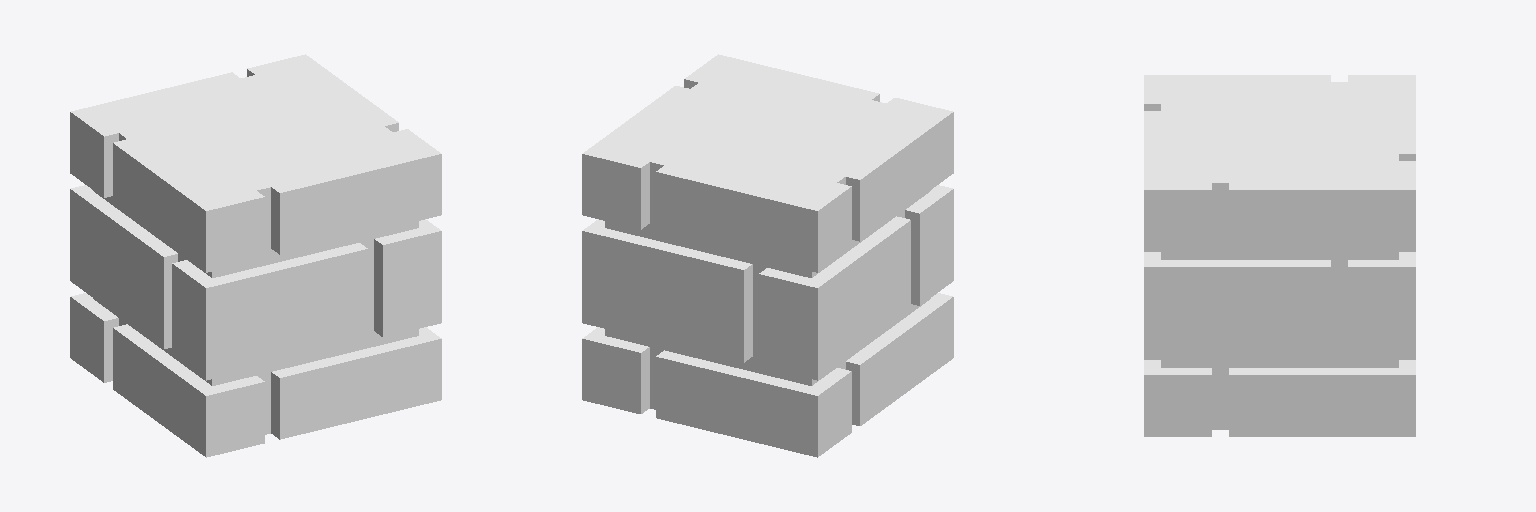
File: Stone_brick.obj
3 renders of one model, left to right at view 1: azimuth 30°, elevation 25°; view 2: azimuth 150°, elevation 25°; view 3: azimuth 270°, elevation 25°, orthographic.
Parts seen in each view (by area): view 1: object 1; view 2: object 1; view 3: object 1.
Boxes of the visible parts, <box> form: object 1: <box>70,54,441,457</box>; object 1: <box>582,54,953,457</box>; object 1: <box>1144,75,1415,436</box>.
Size of the model in its own units: 1.6 by 1.6 by 1.6.